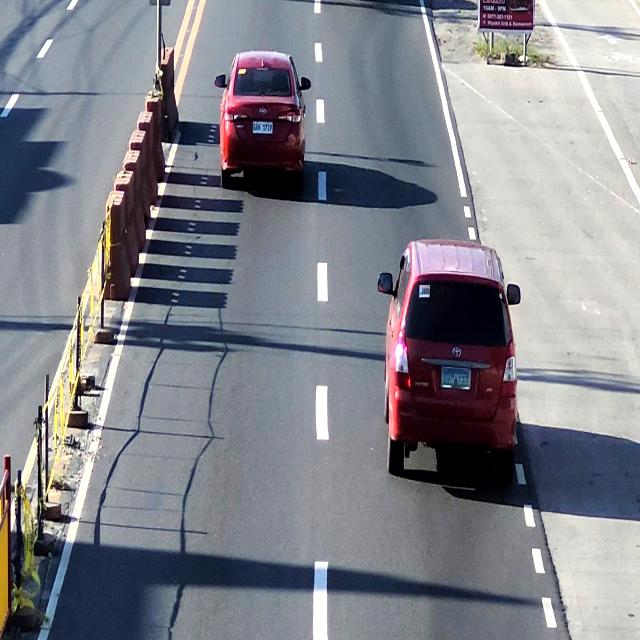Car: (382, 237, 520, 478), (212, 40, 312, 190)
License-Plate: (440, 363, 474, 389), (252, 117, 274, 139)
